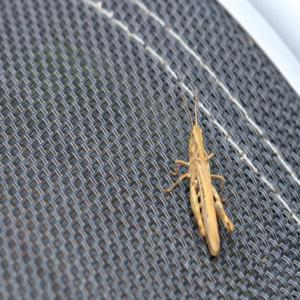locust: (174, 99, 236, 249)
